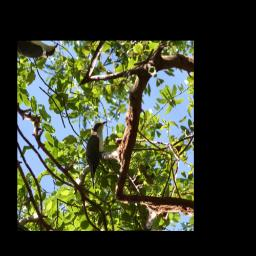Cuckoo: (68, 116, 132, 189)
